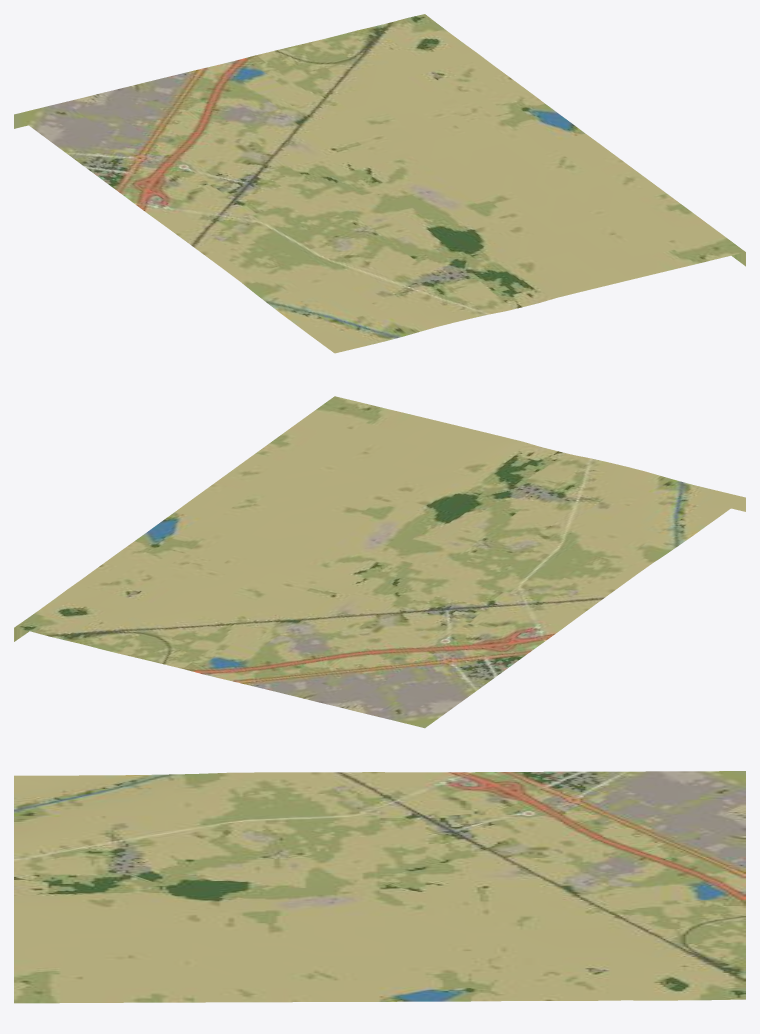
3 renders of one model, top to bottom at view 1: azimuth 30°, elevation 25°; view 2: azimuth 150°, elevation 25°; view 3: azimuth 270°, elevation 25°, orthographic. The views are drawn at different scales.
Bounding box in the file's own units: 3613 × 162 × 4883.
Materials: 1 (1 with a texture image).
